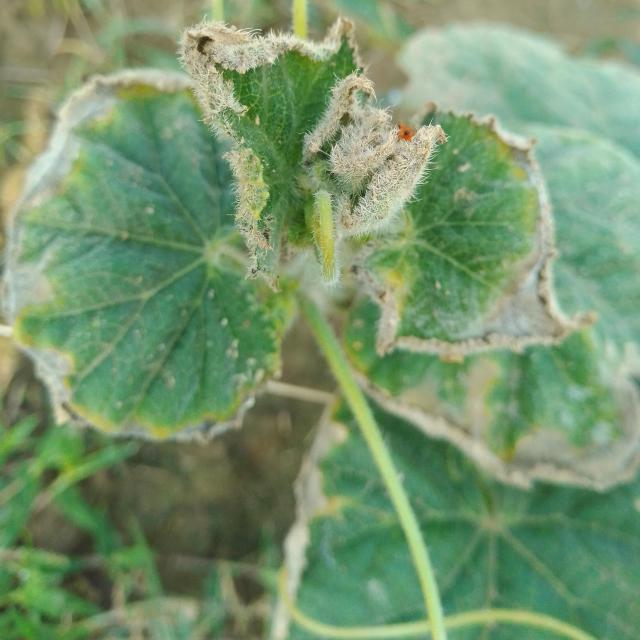cucumber_gummy: (0, 2, 458, 455), (323, 112, 640, 522), (270, 367, 639, 640), (326, 76, 598, 384)
